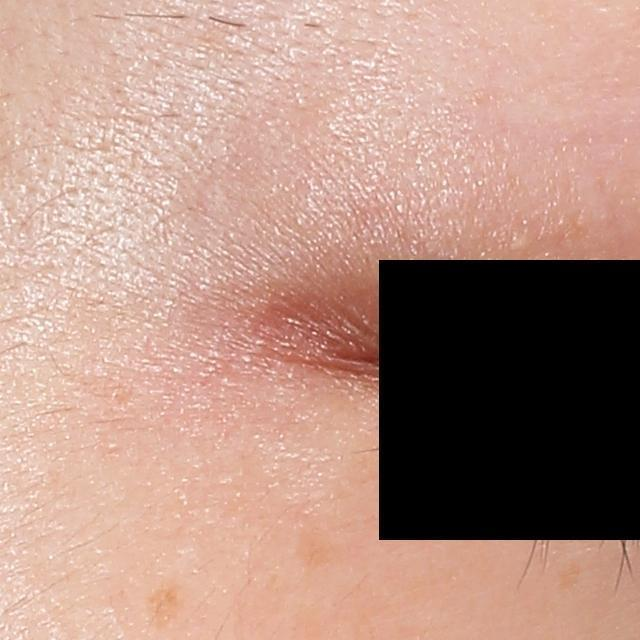melasma: (289, 519, 342, 576), (146, 579, 185, 628)
